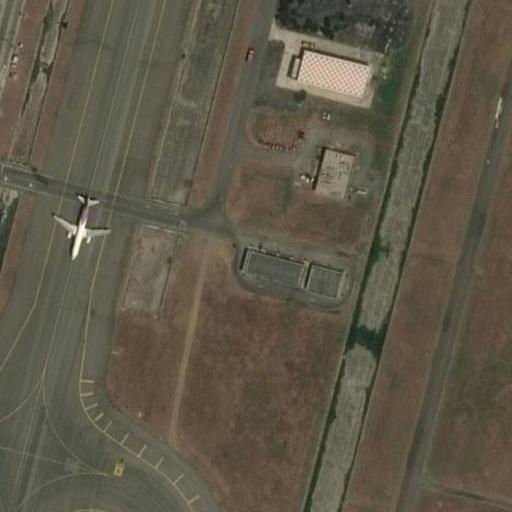Aircraft: (51, 185, 110, 256)
